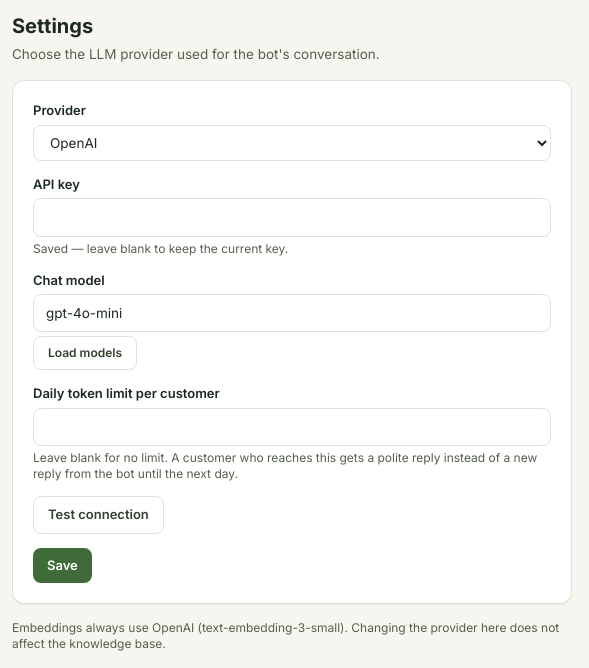
Test: SettingsPage › lists the provider's models and offers them as suggestions
Click the button "Load models" at (85, 353), box top-left (33, 336), bottom-right (137, 370)
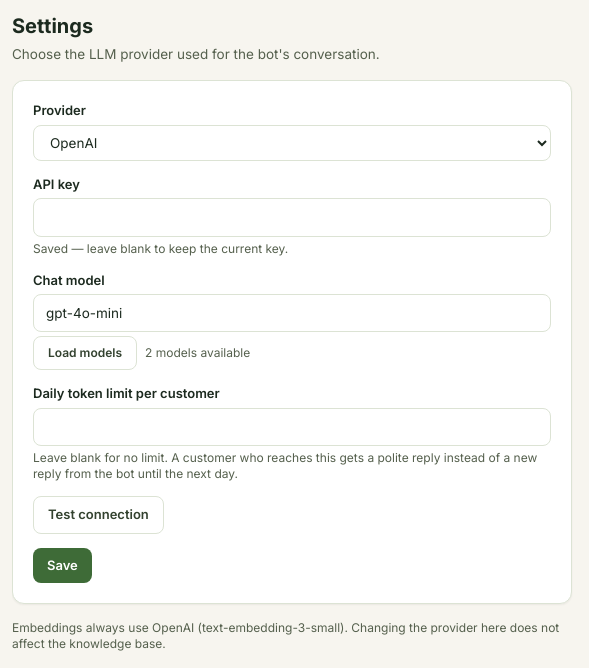
Expected: the text "2 models available" is shown, top-left (145, 345), bottom-right (250, 361)
